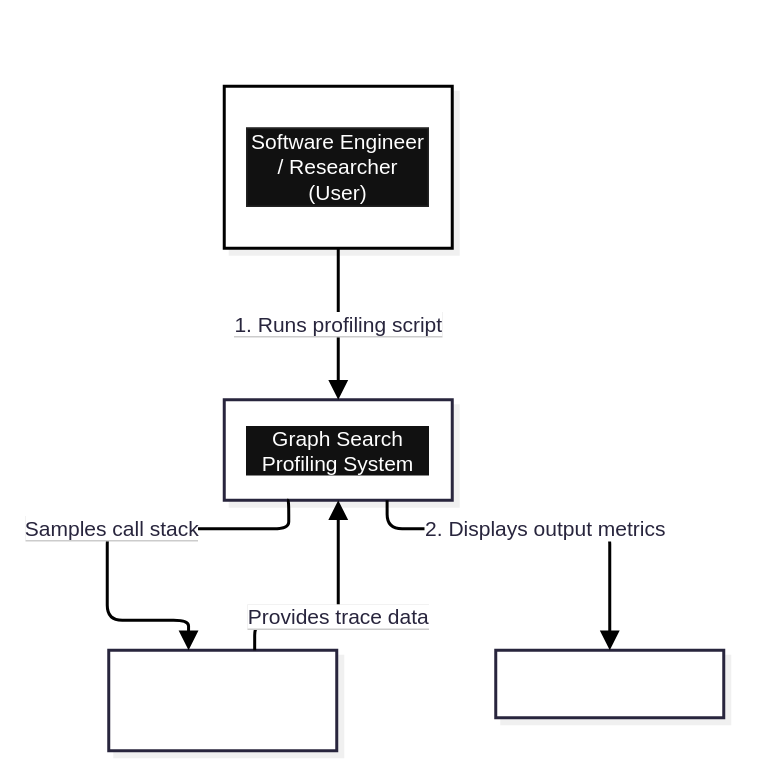
Some shapes in this 758 by 783 pixel diagram are drawn without their labels. The shapes that lost their labels are listed below. From the top down, each one's centre as x and y in pixels, then its label:
point 225,703: py-spy (External)
point 612,686: Console Stdout
